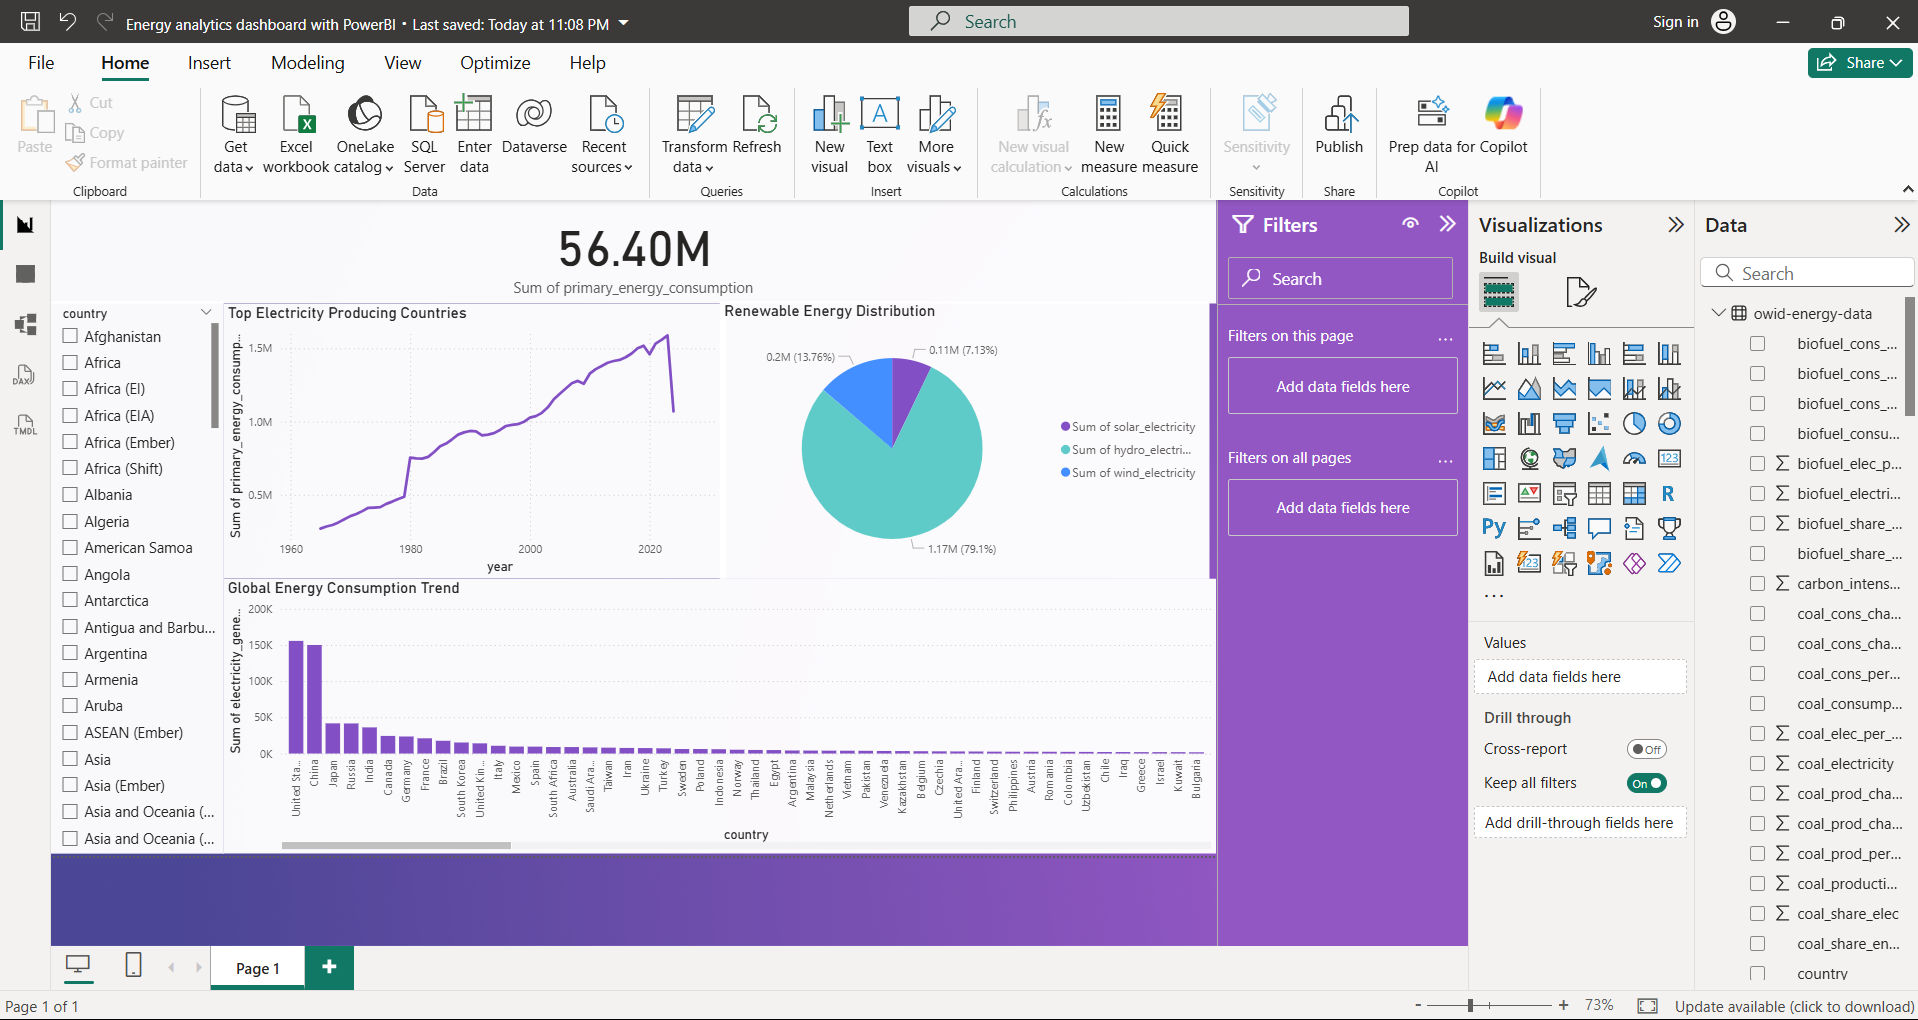

The page's visual inventory and layout, read from the dashboard file:
{"tool":"powerbi","page":{"name":"Page 1","canvas":[1280,720],"ordinal":0},"visuals":[{"type":"lineChart","title":"Top Electricity Producing Countries","fields":{"Category":["owid-energy-data.year"],"Y":["Sum(owid-energy-data.primary_energy_consumption)"]},"box":[189.4,113.9,551.6,301.9],"z":0},{"type":"pieChart","title":"Renewable Energy Distribution","fields":{"Y":["Sum(owid-energy-data.solar_electricity)","Sum(owid-energy-data.hydro_electricity)","Sum(owid-energy-data.wind_electricity)"]},"box":[734.1,111.1,537.9,304.6],"z":1000},{"type":"columnChart","title":"Global Energy Consumption Trend","fields":{"Category":["owid-energy-data.country"],"Y":["Sum(owid-energy-data.electricity_generation)"]},"box":[189.4,415.8,1089.5,301.9],"z":2000},{"type":"card","fields":{"Values":["Sum(owid-energy-data.primary_energy_consumption)"]},"box":[0,0,1278.9,113.9],"z":3000},{"type":"slicer","fields":{"Values":["owid-energy-data.country"]},"box":[0,111.1,189.4,606.5],"z":3001}]}

Visuals, with their boxes on the page's 1280x720 design canvas (x1, y1, x2, y2). These are canvas units, not pixel positions in the 1918x1020 screenshot, which may show the page scaled, cropped or inside an application window:
"Top Electricity Producing Countries" lineChart: l=189, t=114, r=741, b=416
"Renewable Energy Distribution" pieChart: l=734, t=111, r=1272, b=416
"Global Energy Consumption Trend" columnChart: l=189, t=416, r=1279, b=718
card - Sum(owid-energy-data.primary_energy_consumption): l=0, t=0, r=1279, b=114
slicer - owid-energy-data.country: l=0, t=111, r=189, b=718
